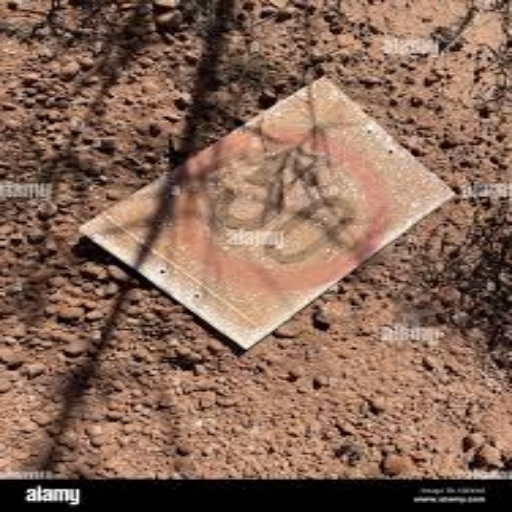Speed limit: (158, 96, 397, 304)
